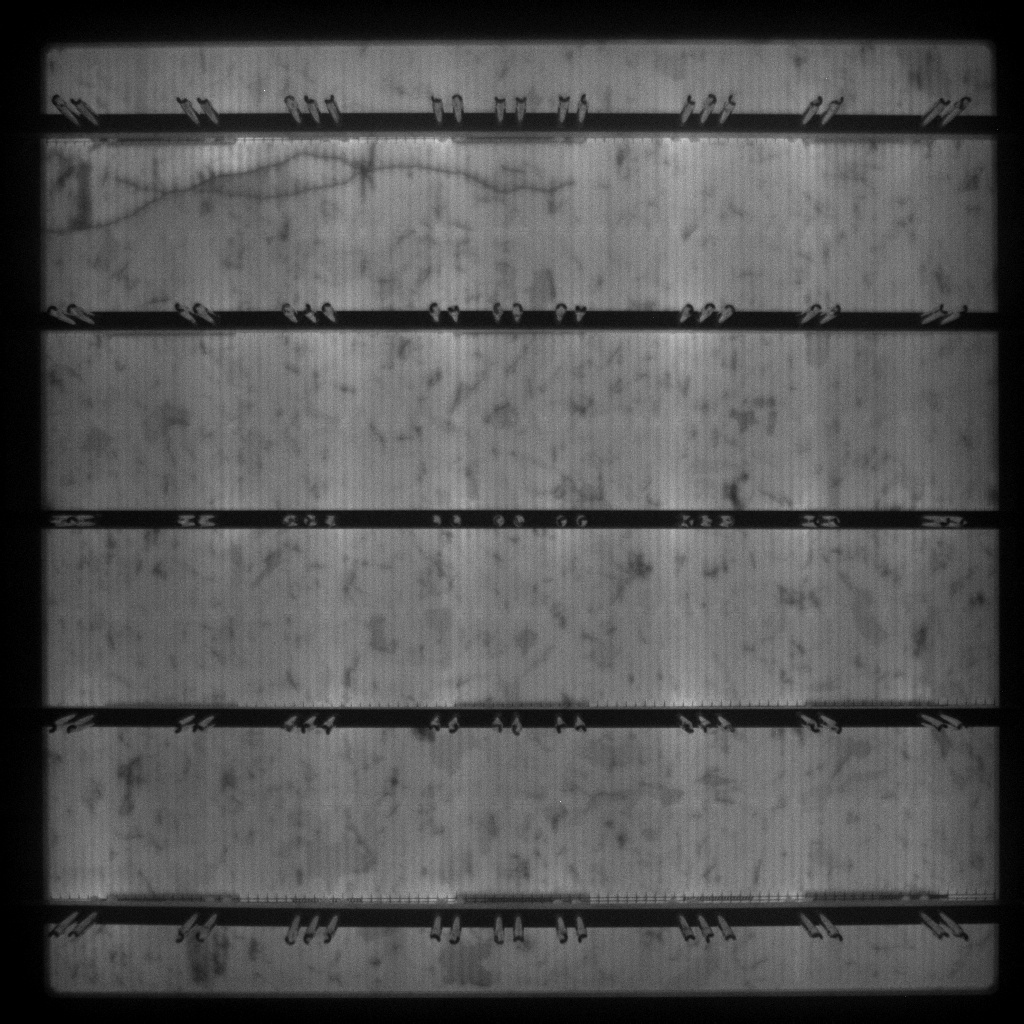crack: (48, 145, 580, 245)
